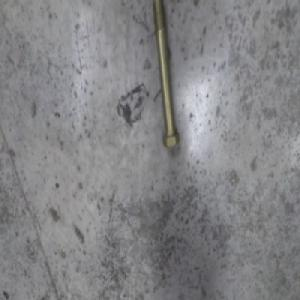Bolt: (151, 6, 179, 151)
